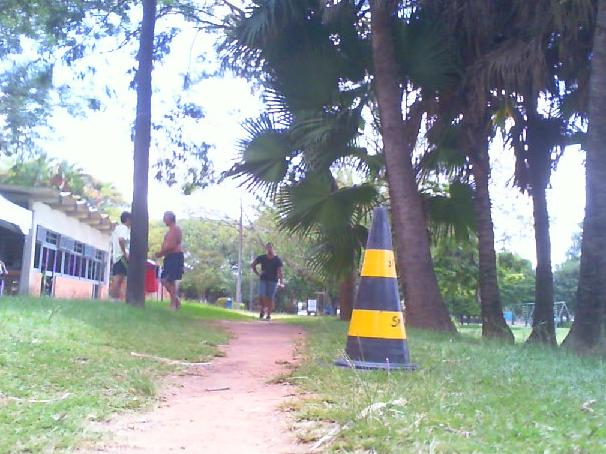0 cone: (333, 207, 418, 371)
